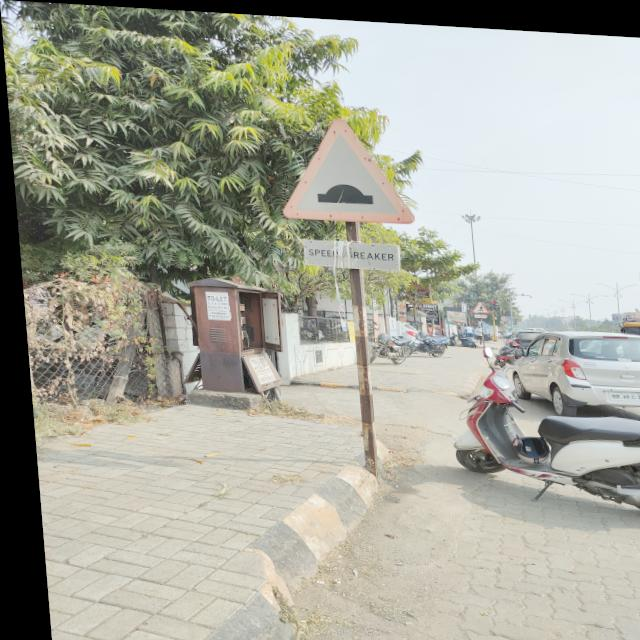BUMPS: (274, 116, 419, 229)
